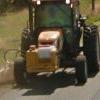Tractor: (12, 7, 100, 90)
